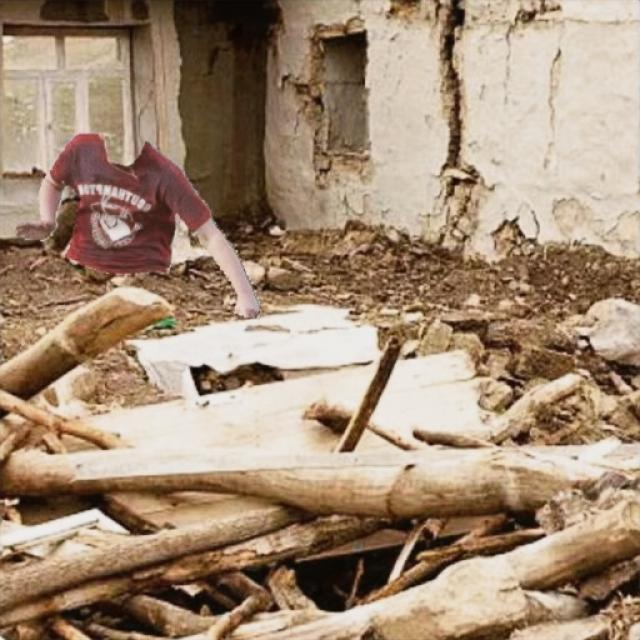Person in Rubble: (16, 134, 259, 316)
